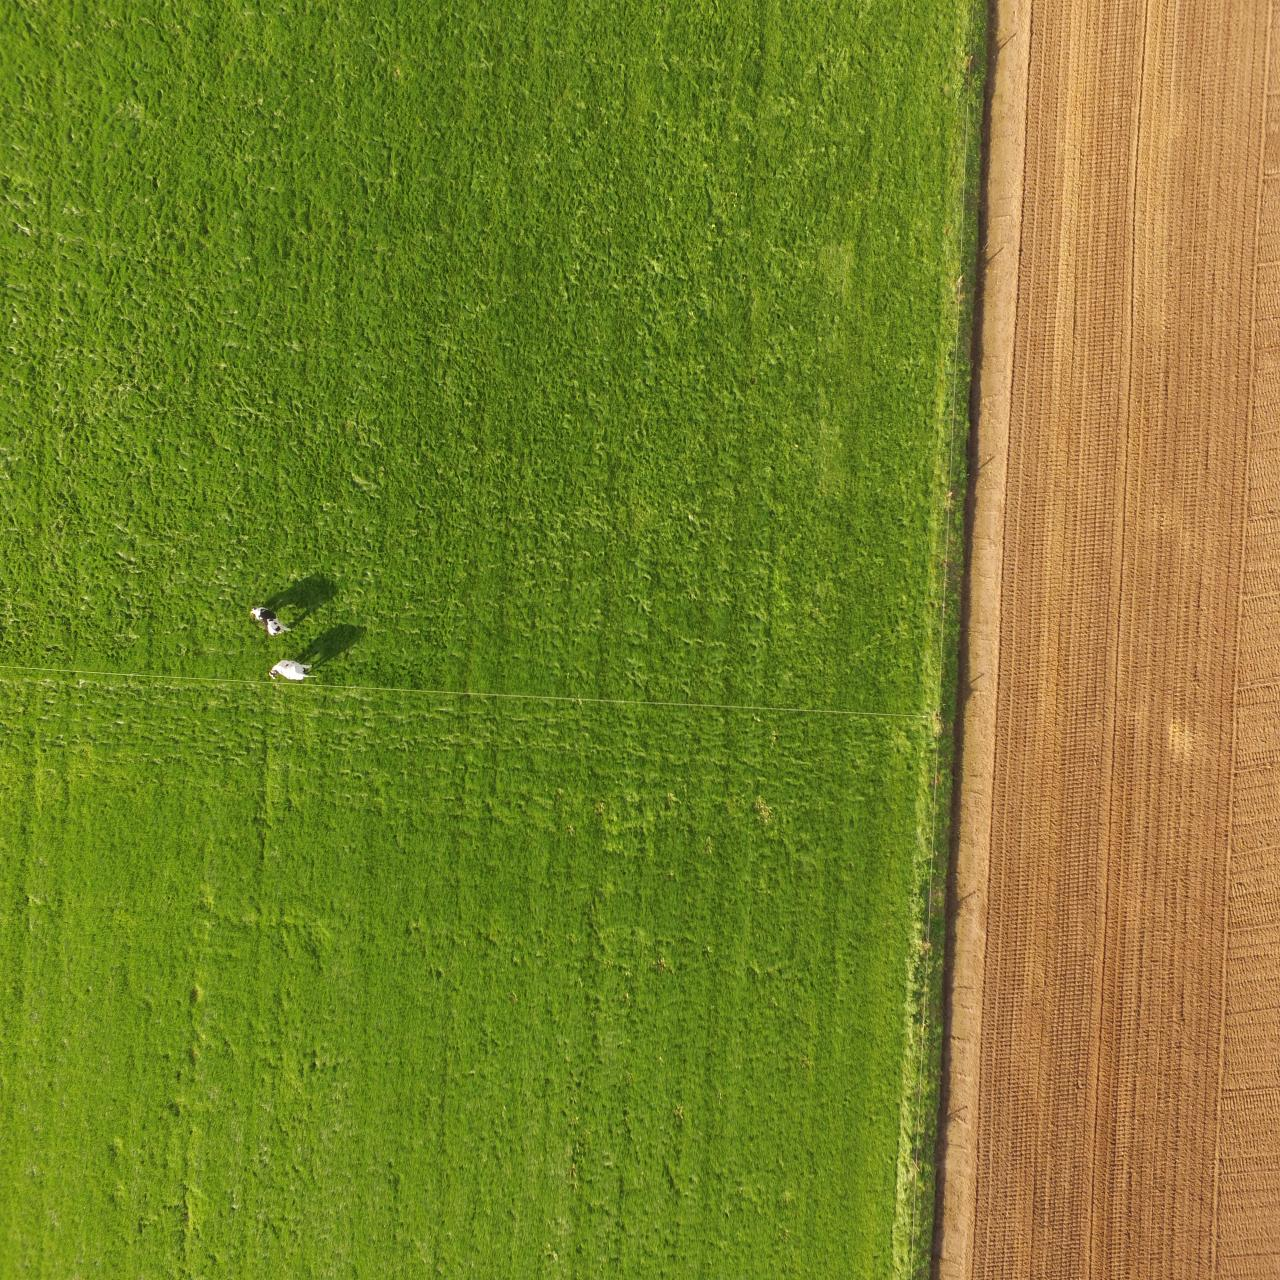cow: (248, 605, 292, 638), (267, 658, 318, 681)
